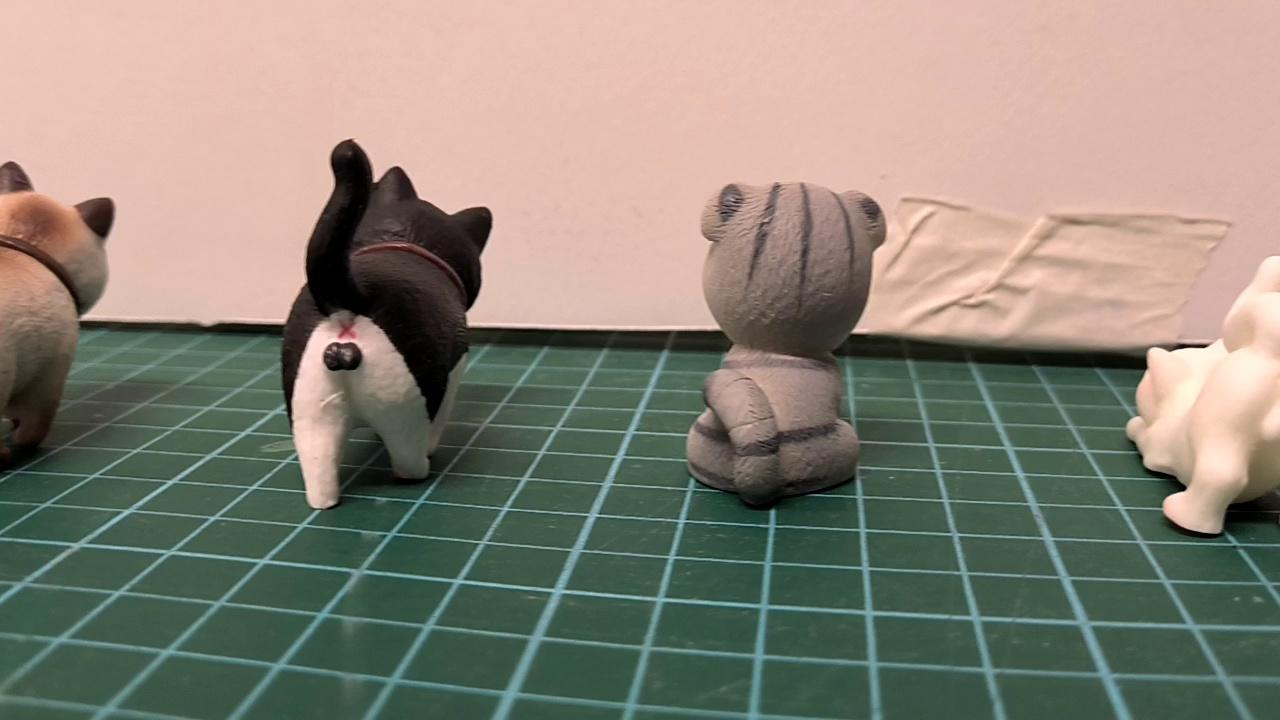pet: (271, 133, 503, 518), (688, 173, 891, 508)
